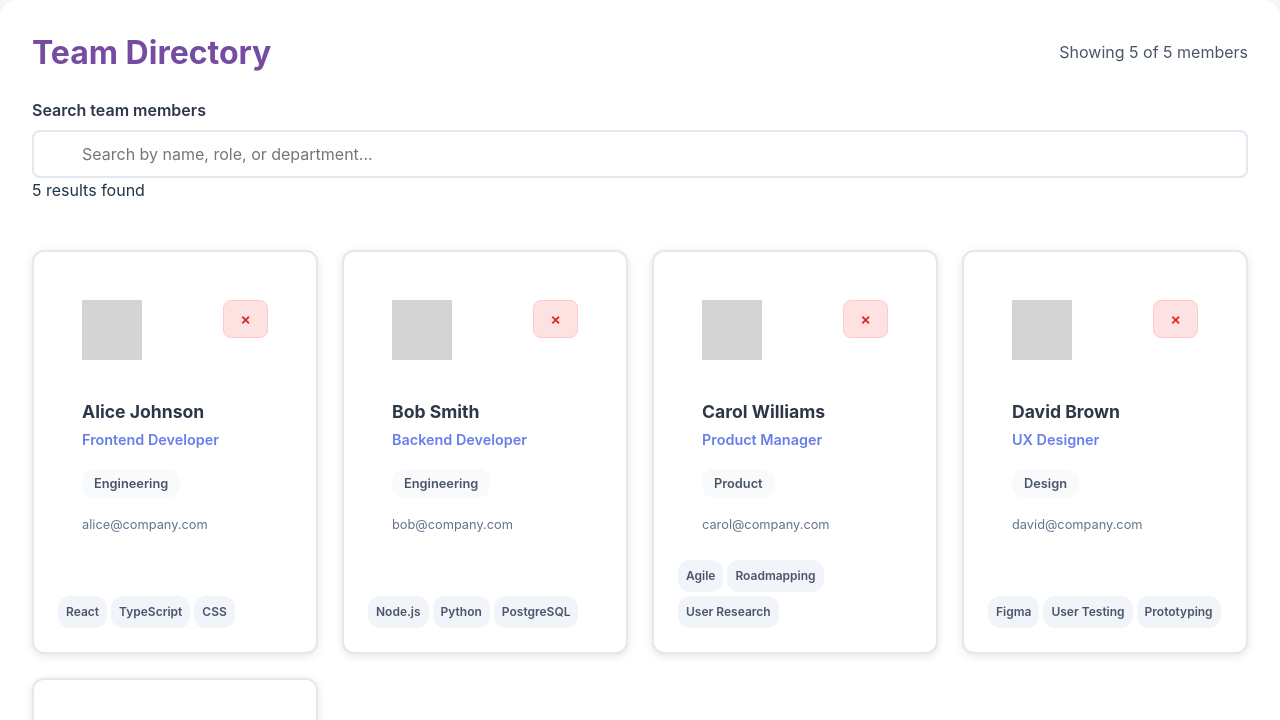
Test: TeamDirectory Component › Delete Member › removes member when delete button is clicked
This screenshot has width=1280, height=720.
Check: the heading "Alice Johnson" is shown, box [82,401,204,422]
Click the button named "delete alice" at (246, 319), box [223,300,268,338]
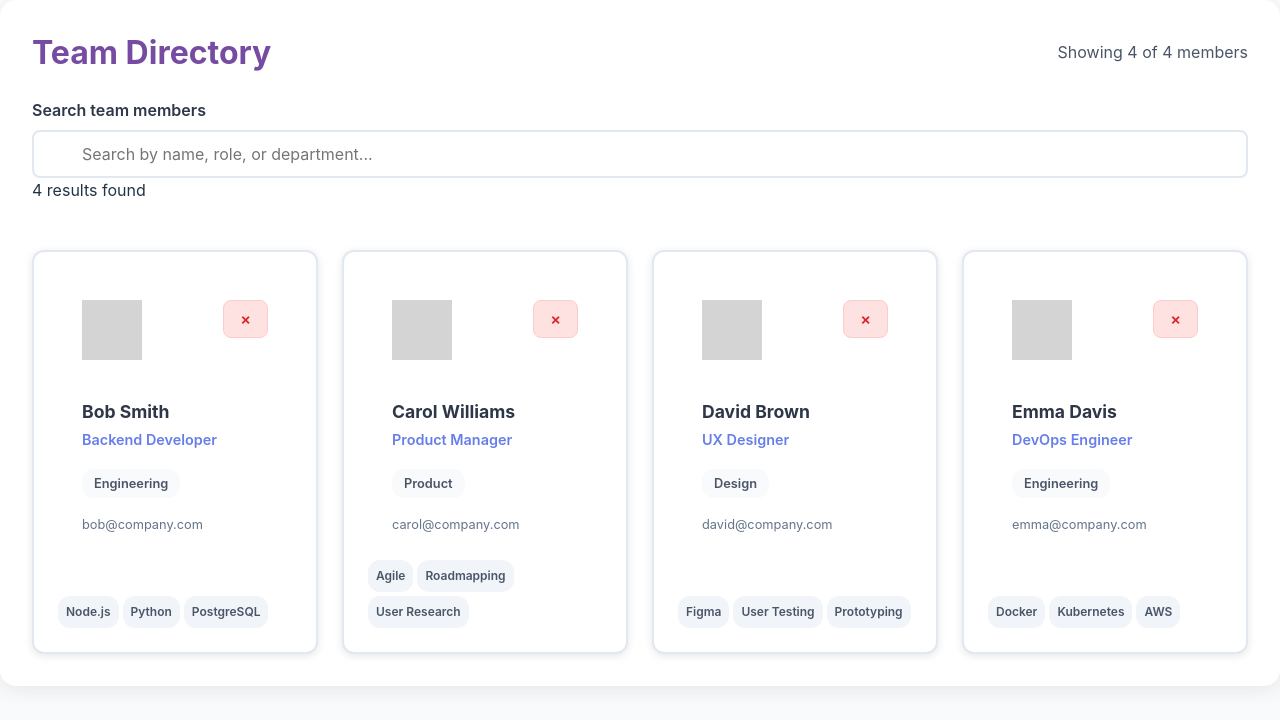
Check: the button "Alice Johnson" is gone
